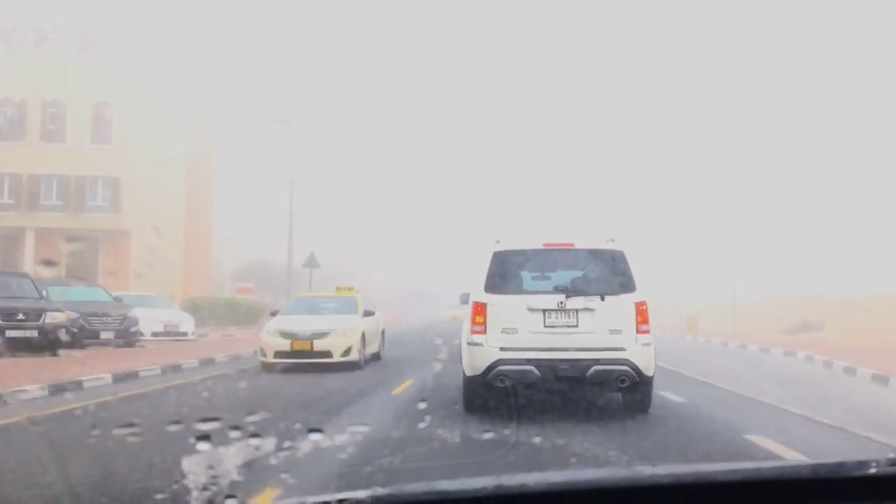car: (454, 237, 659, 420), (252, 284, 388, 374), (23, 271, 143, 351), (81, 288, 202, 348), (1, 272, 70, 360)
